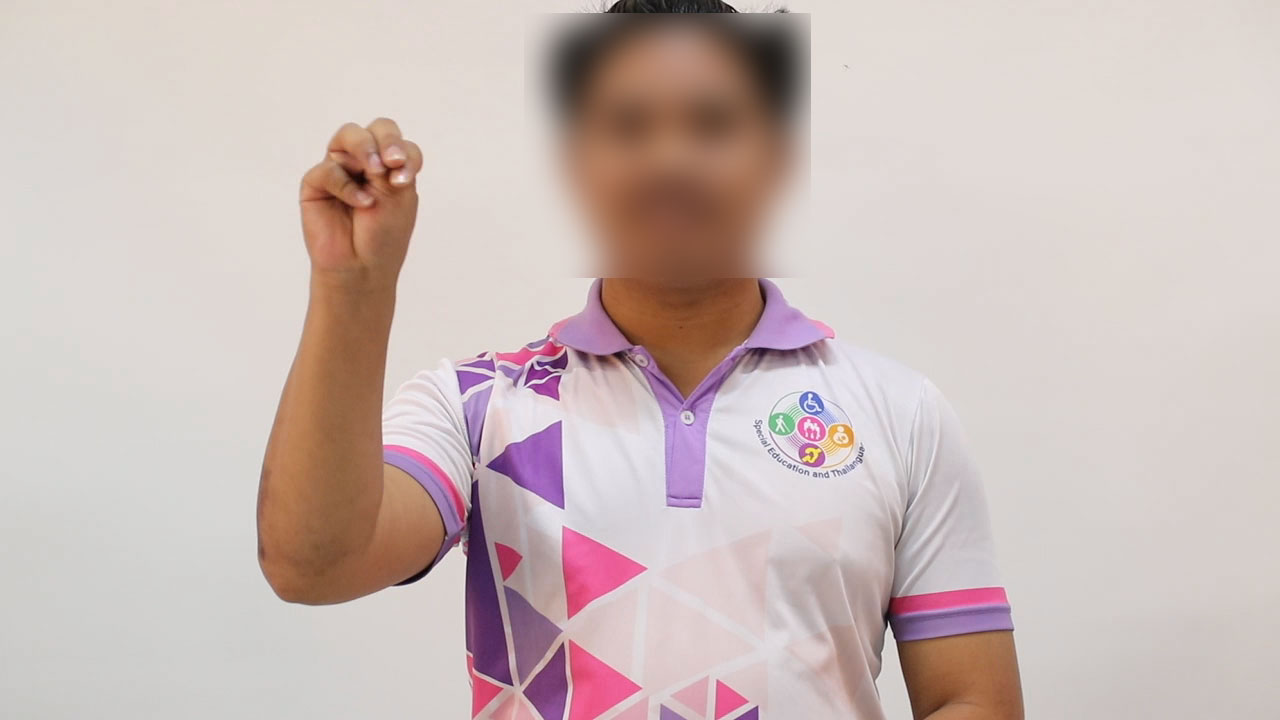mor: (286, 93, 440, 296)
